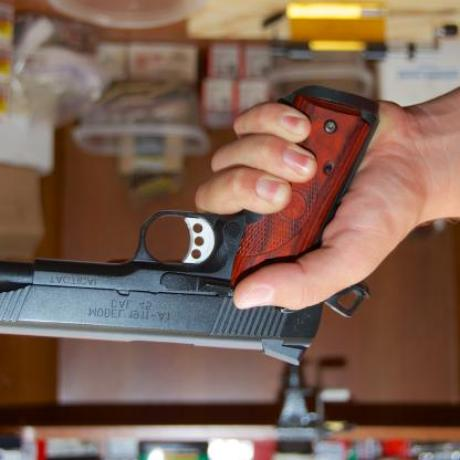1: (194, 82, 460, 315)
weapon: (0, 78, 395, 370)
